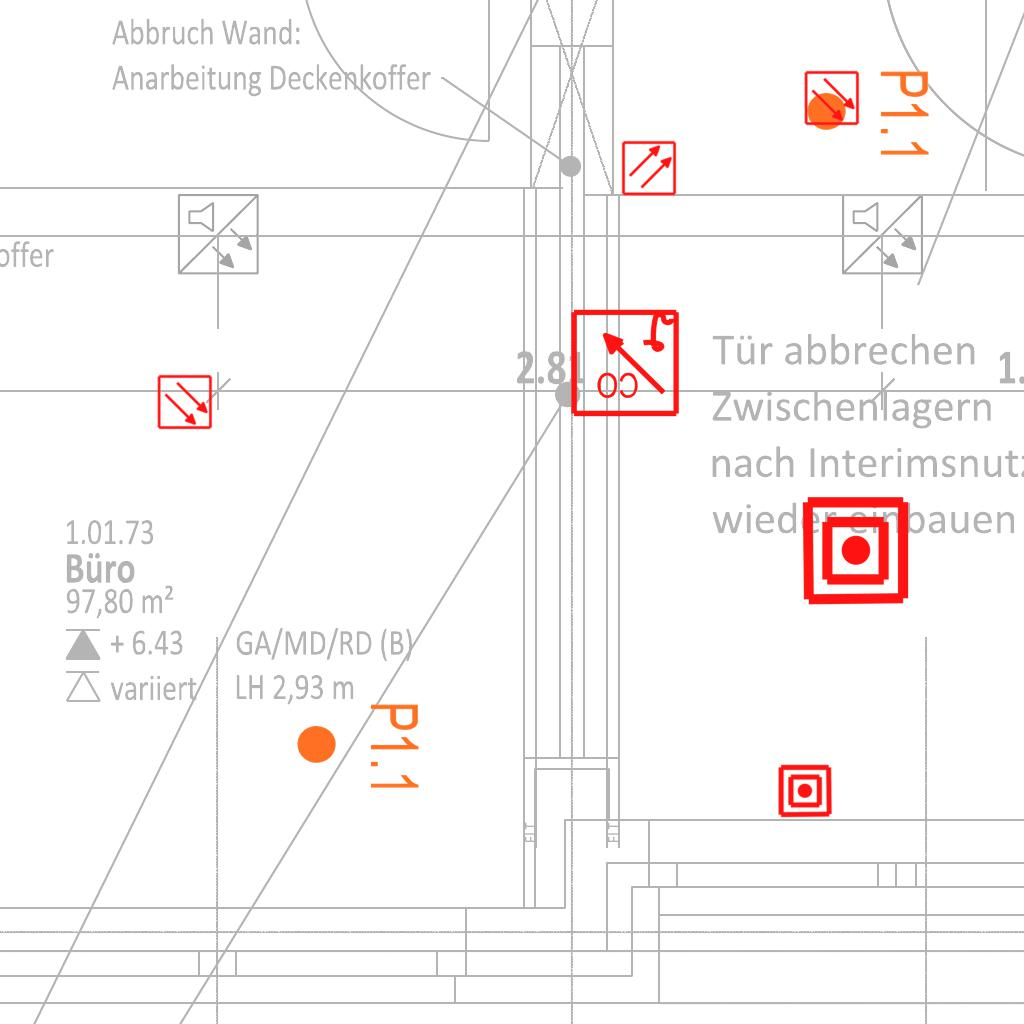Downlight_LED_Einbauleuchten_Flur: (294, 701, 422, 794), (804, 68, 932, 161)
NAM-Nichtautomatischer_Melder: (799, 494, 912, 607), (777, 763, 833, 819)
RMO_Rauchmelder_optischer: (157, 374, 213, 430), (621, 140, 677, 196), (804, 70, 860, 126)
ROA_Rauchmelder_optisch_mit_Signalgeber_(Sockelsirene): (568, 305, 681, 418)
